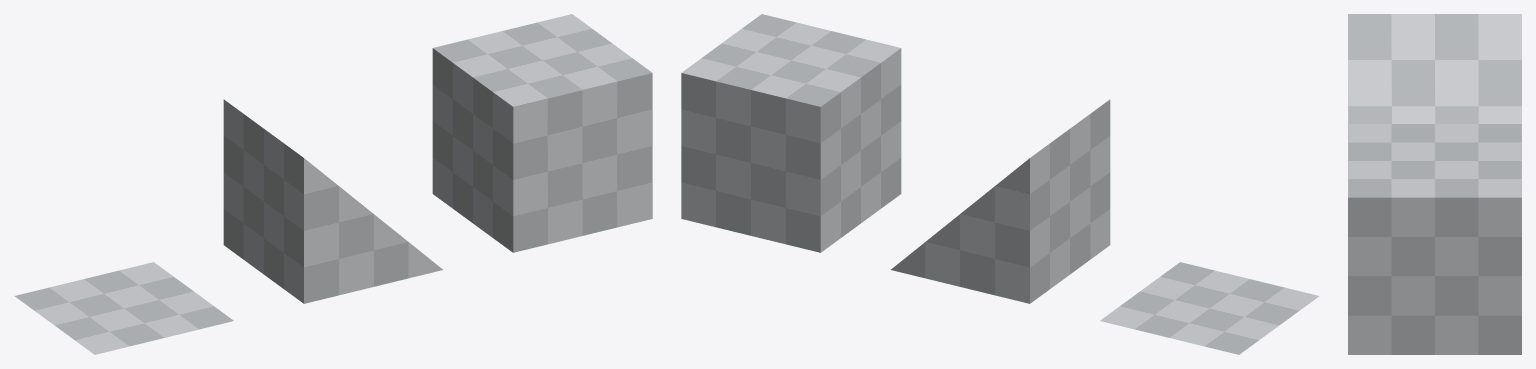
Rendered from prototype blocks.glb.
The picture shows the model from 3 angles, left to right: view 1: azimuth 30°, elevation 25°; view 2: azimuth 150°, elevation 25°; view 3: azimuth 270°, elevation 25°; orthographic projection. The views are drawn at different scales.
Parts seen in each view (by area): view 1: Cube, Incline, Plane; view 2: Cube, Incline, Plane; view 3: Cube, Incline.
Part boxes in pixels (x1,y1,x2,y2): Cube: (432,14,652,252); Incline: (223,99,442,303); Plane: (14,262,233,354); Cube: (681,14,901,252); Incline: (891,99,1110,303); Plane: (1100,262,1319,354); Cube: (1348,124,1521,354); Incline: (1348,14,1521,123).
Bounding box in the file's own units: 8 × 2 × 2.
Materials: 1 (1 with a texture image).
